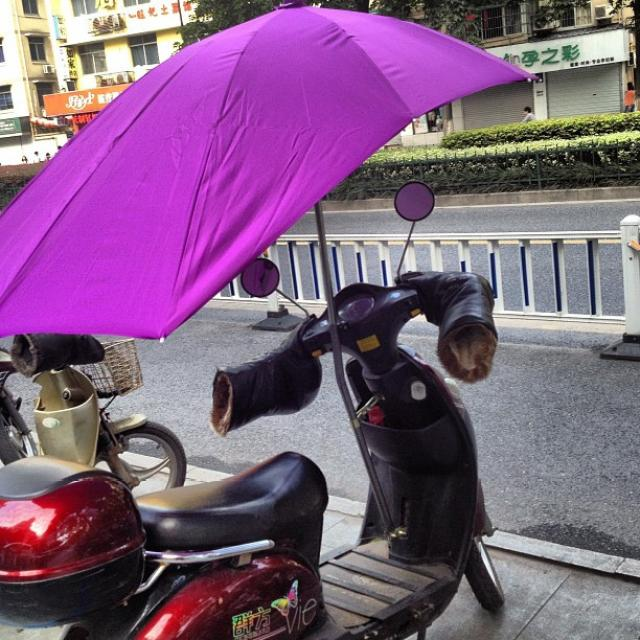motor: (0, 181, 508, 633)
